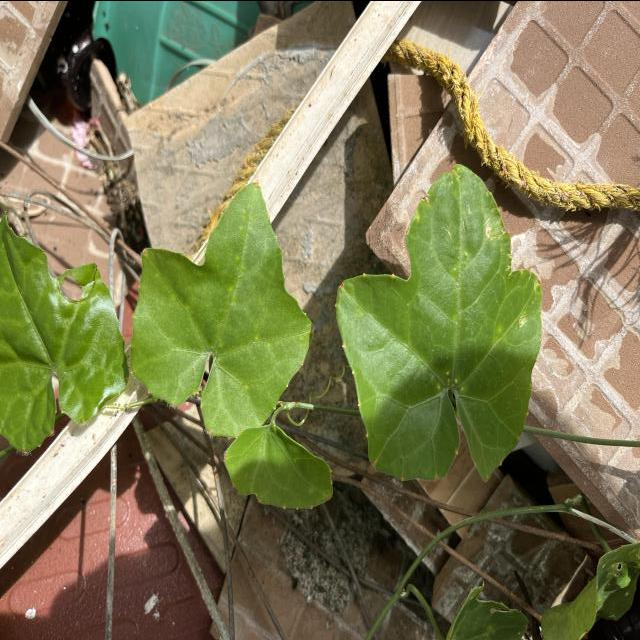Coccinia grandis: (329, 158, 547, 488), (124, 170, 316, 438)
